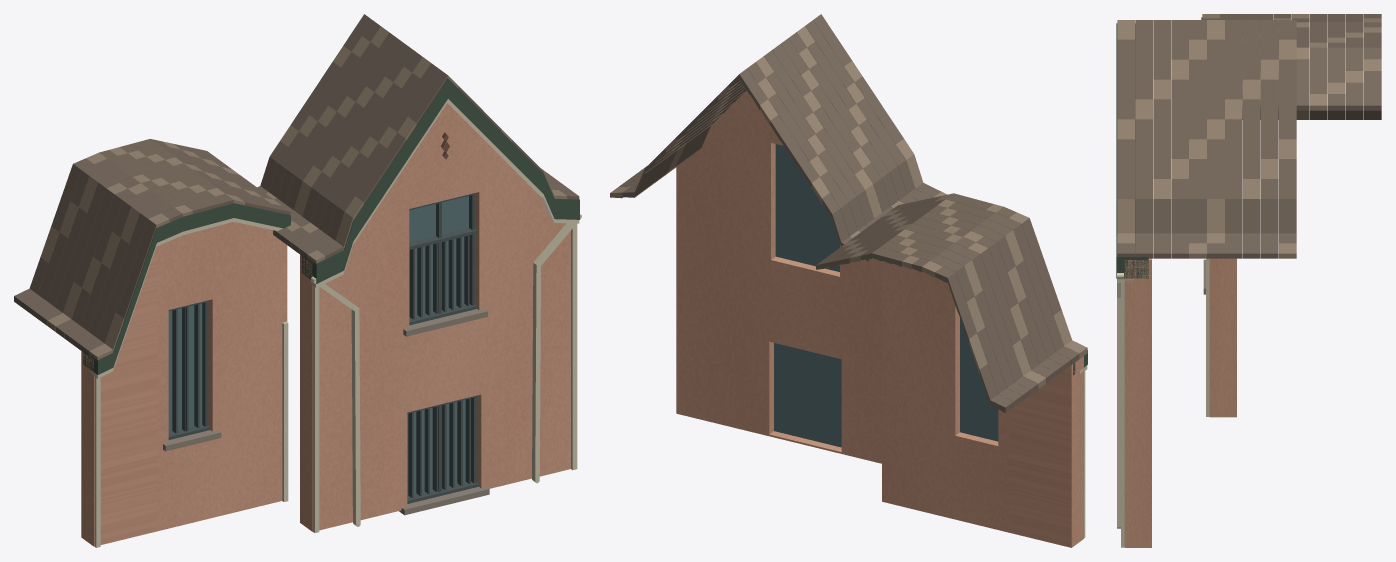
File: changning-tangshan-village-offset-gables-raw.glb
3 renders of one model, left to right at view 1: azimuth 30°, elevation 25°; view 2: azimuth 150°, elevation 25°; view 3: azimuth 270°, elevation 25°, orthographic. The views are drawn at different scales.
Visible parts, largest first — view 1: 汤山村弄内住宅错落双山墙; view 2: 汤山村弄内住宅错落双山墙; view 3: 汤山村弄内住宅错落双山墙.
Part boxes in pixels (bbox=[...]): 汤山村弄内住宅错落双山墙: bbox=[14, 14, 581, 547]; 汤山村弄内住宅错落双山墙: bbox=[610, 14, 1087, 547]; 汤山村弄内住宅错落双山墙: bbox=[1116, 14, 1381, 547].
Size of the model in its own units: 5.07 by 4.68 by 2.44.
9 materials, 1 textured.
